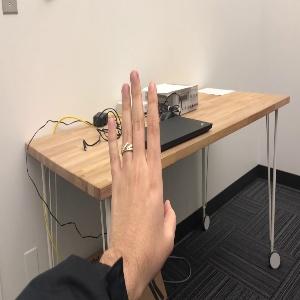hand: (107, 71, 176, 252)
